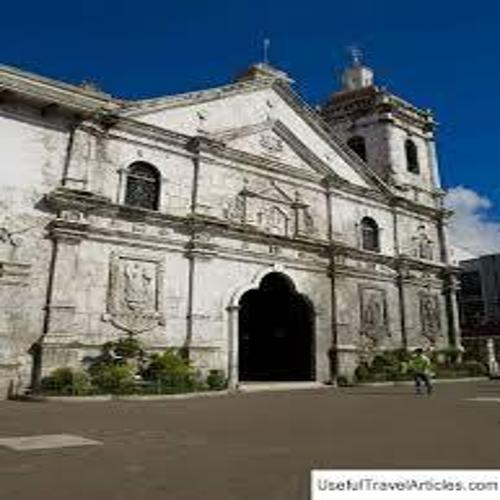Sto. Nino Basilica Church: (89, 21, 470, 395)
